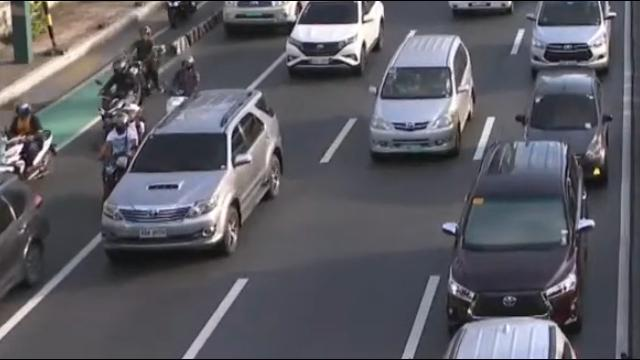car: (100, 86, 286, 265), (441, 138, 599, 336), (363, 31, 479, 163), (512, 65, 616, 191), (281, 0, 389, 81), (521, 0, 622, 82), (0, 169, 60, 307), (430, 313, 579, 360), (224, 0, 310, 31)
motorcycle: (96, 103, 148, 201), (0, 101, 55, 179), (93, 58, 144, 126), (125, 25, 165, 95), (166, 55, 204, 117), (167, 0, 200, 31)
